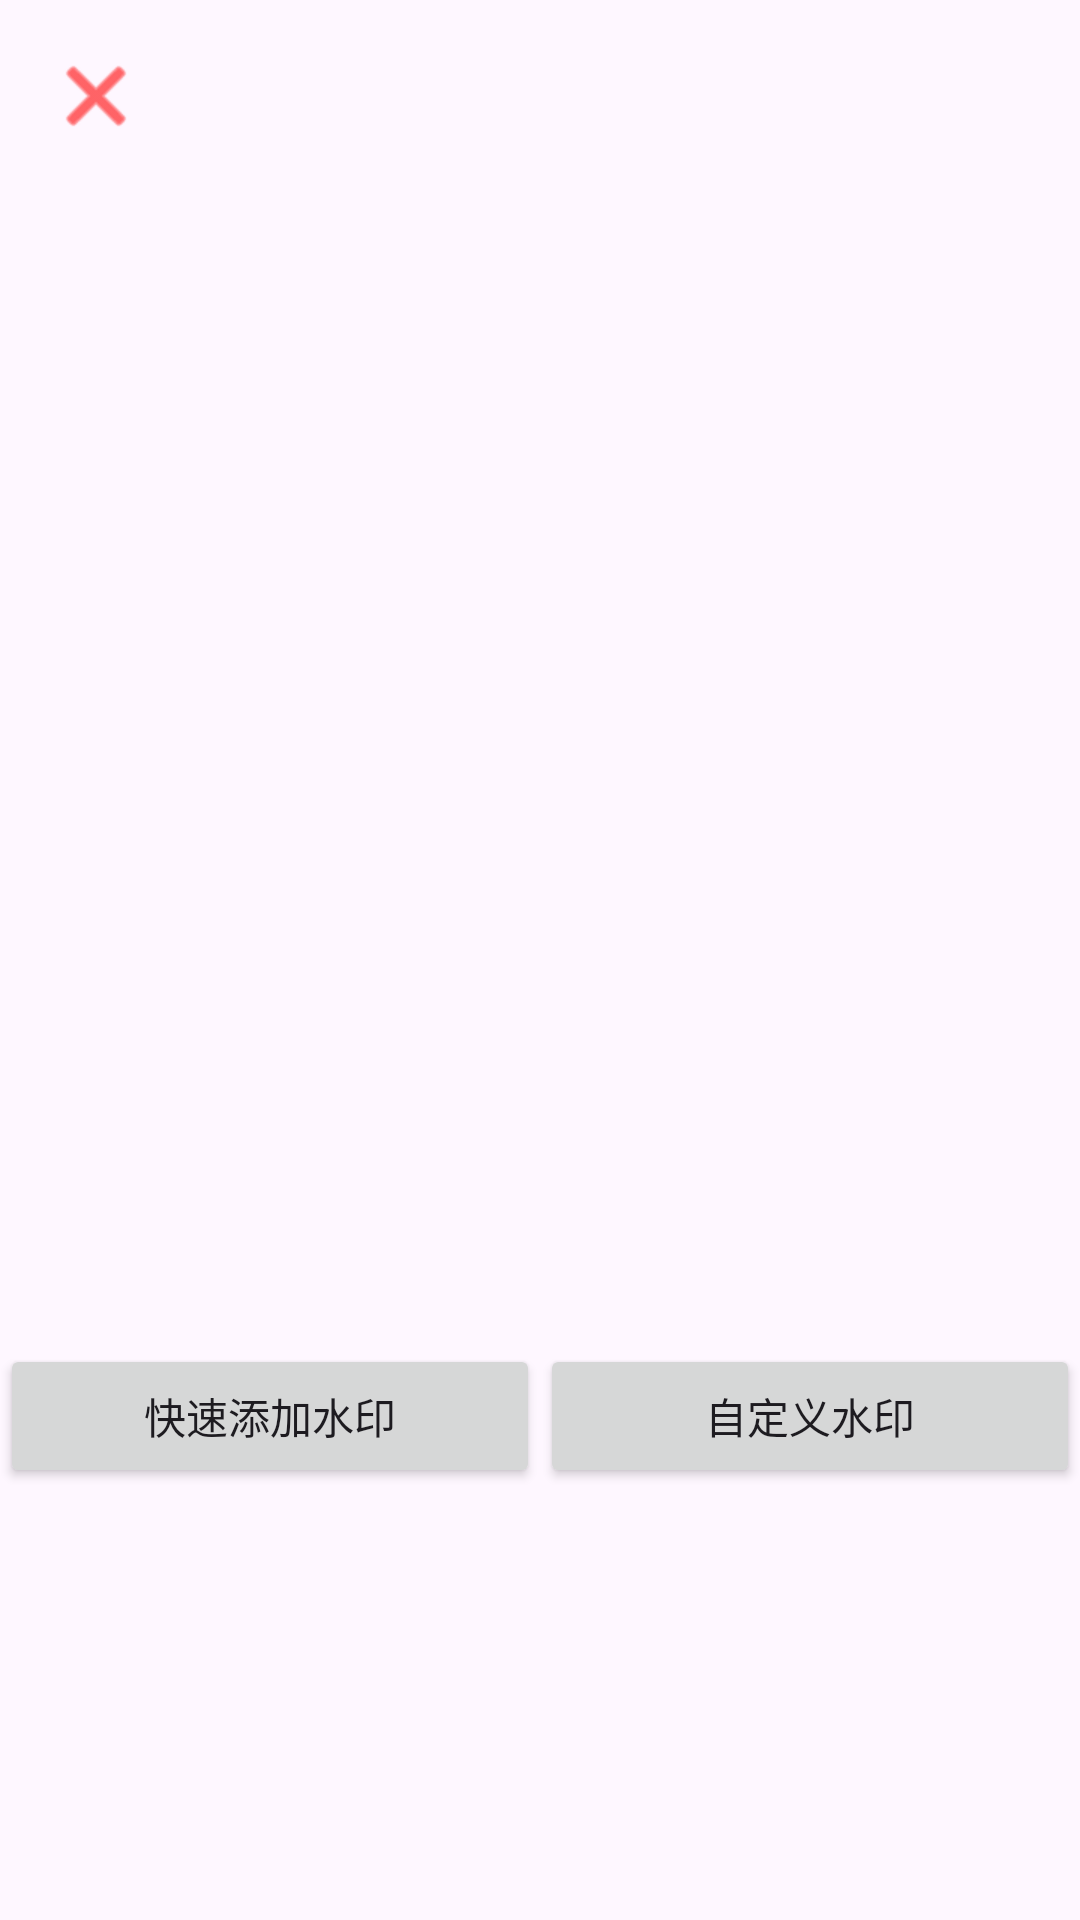

Icon click points for this 1080×1920 phone screenshot, format (x=x, y=y):
返回: (x=96, y=96)
